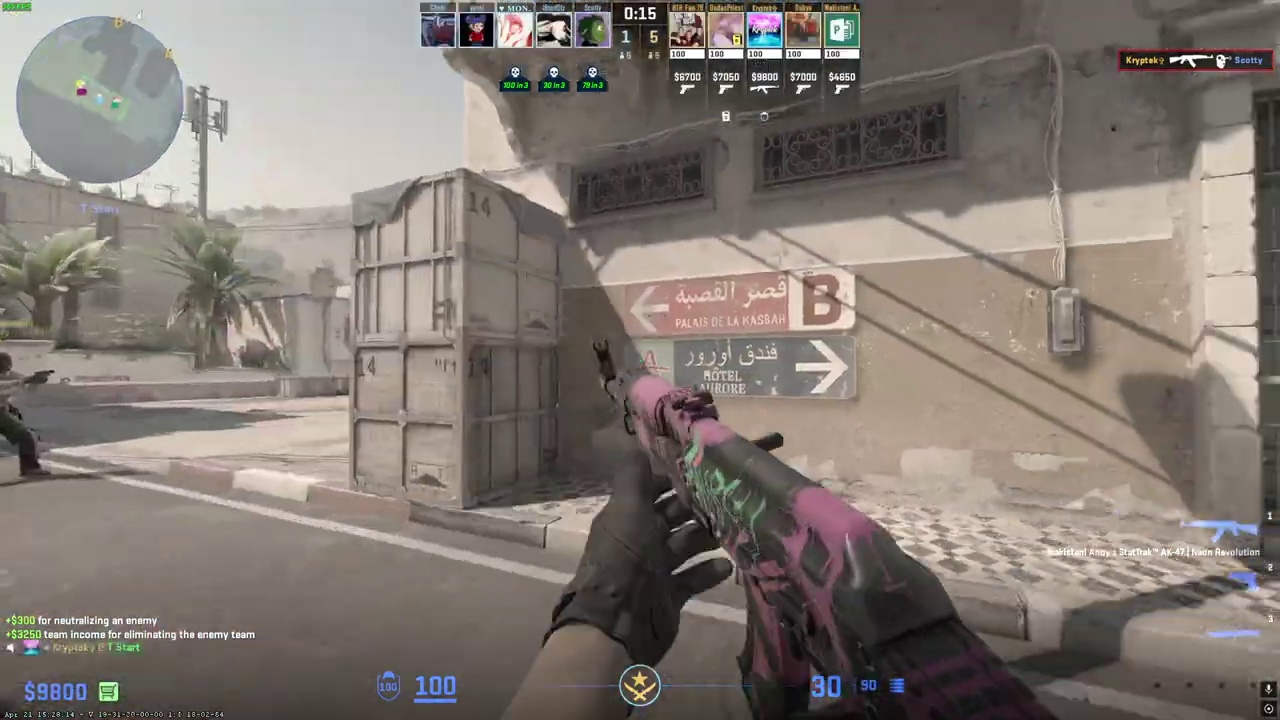Terrorist: (0, 352, 49, 477)
